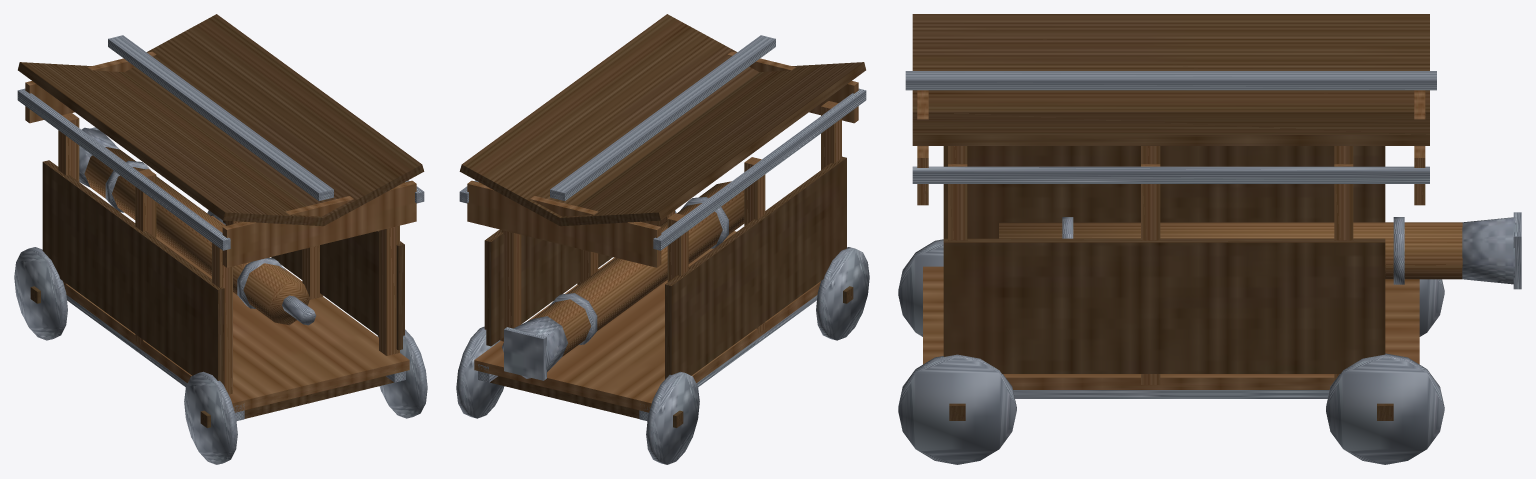
Rendered from ae_ram_iron_lod1.glb.
3 views of the same model, side by side, from view 1: azimuth 30°, elevation 25°; view 2: azimuth 150°, elevation 25°; view 3: azimuth 270°, elevation 25° (orthographic). The views are drawn at different scales.
Visible parts, largest first — view 1: roofR, wallL, roofL, floor, gable_r, log_core, wallR, ridge, eaveL, wheel_RL_tyre, wheel_FL_tyre, post_1_0 (+12 smaller); view 2: roofR, wallL, roofL, floor, log_core, gable_f, wallR, ridge, eaveL, wheel_FL_tyre, wheel_RL_tyre, wheel_FR_tyre (+12 smaller); view 3: wallR, roofL, wallL, roofR, ridge, wheel_RR_tyre, wheel_FR_tyre, log_core, floor, eaveR, ram_head, runnerR (+8 smaller).
Boxes of the visible parts, bbox=[...] form: roofR: bbox=[125, 14, 424, 225]; wallL: bbox=[42, 160, 224, 386]; roofL: bbox=[18, 62, 325, 226]; floor: bbox=[65, 215, 409, 412]; gable_r: bbox=[222, 180, 416, 267]; log_core: bbox=[84, 147, 310, 325]; wallR: bbox=[223, 220, 404, 350]; ridge: bbox=[108, 35, 333, 200]; eaveL: bbox=[17, 88, 230, 250]; wheel_RL_tyre: bbox=[184, 371, 237, 464]; wheel_FL_tyre: bbox=[14, 247, 67, 340]; post_1_0: bbox=[379, 225, 399, 355]; roofR: bbox=[459, 14, 758, 225]; wallL: bbox=[665, 156, 846, 379]; roofL: bbox=[558, 62, 865, 226]; floor: bbox=[474, 231, 820, 412]; log_core: bbox=[533, 181, 744, 356]; gable_f: bbox=[467, 180, 661, 267]; wallR: bbox=[484, 221, 657, 346]; ridge: bbox=[550, 35, 775, 200]; eaveL: bbox=[653, 88, 866, 250]; wheel_FL_tyre: bbox=[646, 371, 699, 464]; wheel_RL_tyre: bbox=[816, 247, 869, 340]; wheel_FR_tyre: bbox=[456, 326, 504, 418]; wallR: bbox=[943, 238, 1385, 373]; roofL: bbox=[912, 14, 1429, 111]; wallL: bbox=[943, 146, 1385, 238]; roofR: bbox=[912, 111, 1429, 145]; ridge: bbox=[905, 71, 1436, 90]; wheel_RR_tyre: bbox=[898, 354, 1016, 464]; wheel_FR_tyre: bbox=[1326, 353, 1444, 464]; log_core: bbox=[999, 222, 1462, 279]; floor: bbox=[923, 266, 1419, 389]; eaveR: bbox=[912, 166, 1429, 183]; ram_head: bbox=[1462, 217, 1514, 284]; runnerR: bbox=[1013, 390, 1329, 398].
Size of the model in its own units: 2.15 by 2.64 by 4.52.
Materials: 2 (2 with a texture image).
